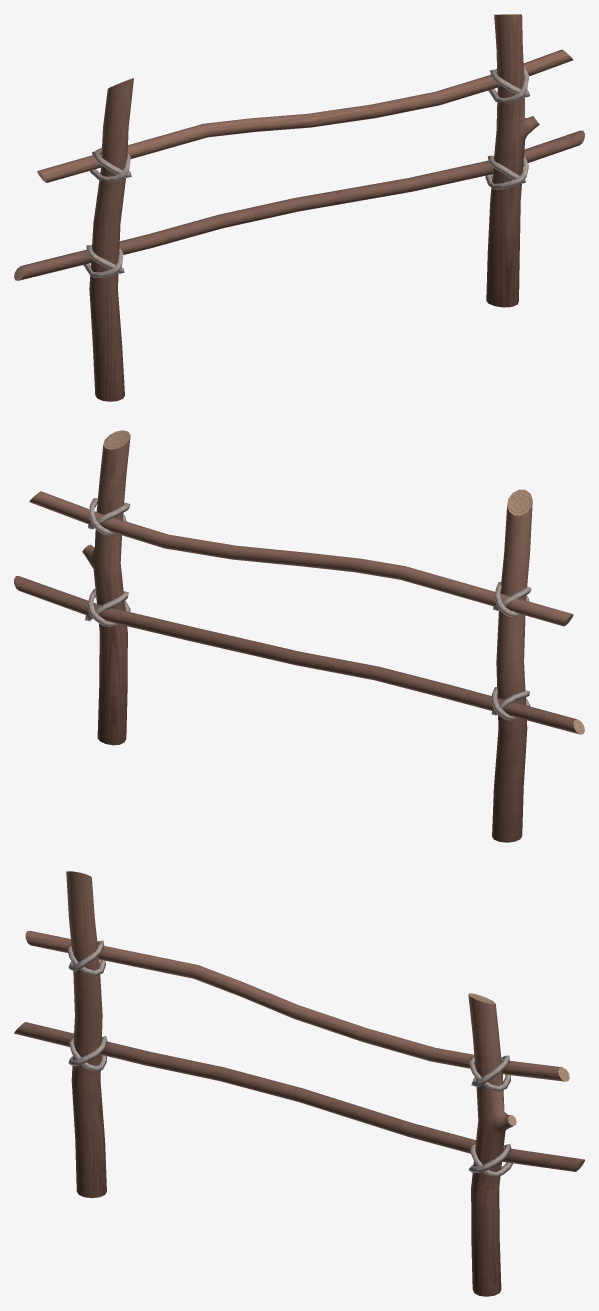
3 renders of one model, top to bottom at view 1: azimuth 30°, elevation 25°; view 2: azimuth 150°, elevation 25°; view 3: azimuth 330°, elevation 25°, orthographic.
Visible parts, largest first — view 1: submesh_0; view 2: submesh_0; view 3: submesh_0.
Boxes of the visible parts, left/top/right/bottom form: submesh_0: left=14, top=14, right=584, bottom=401; submesh_0: left=14, top=430, right=584, bottom=842; submesh_0: left=14, top=871, right=584, bottom=1296.
Bounding box in the file's own units: 2.89 × 1.61 × 0.2966.
Materials: 1 (1 with a texture image).
